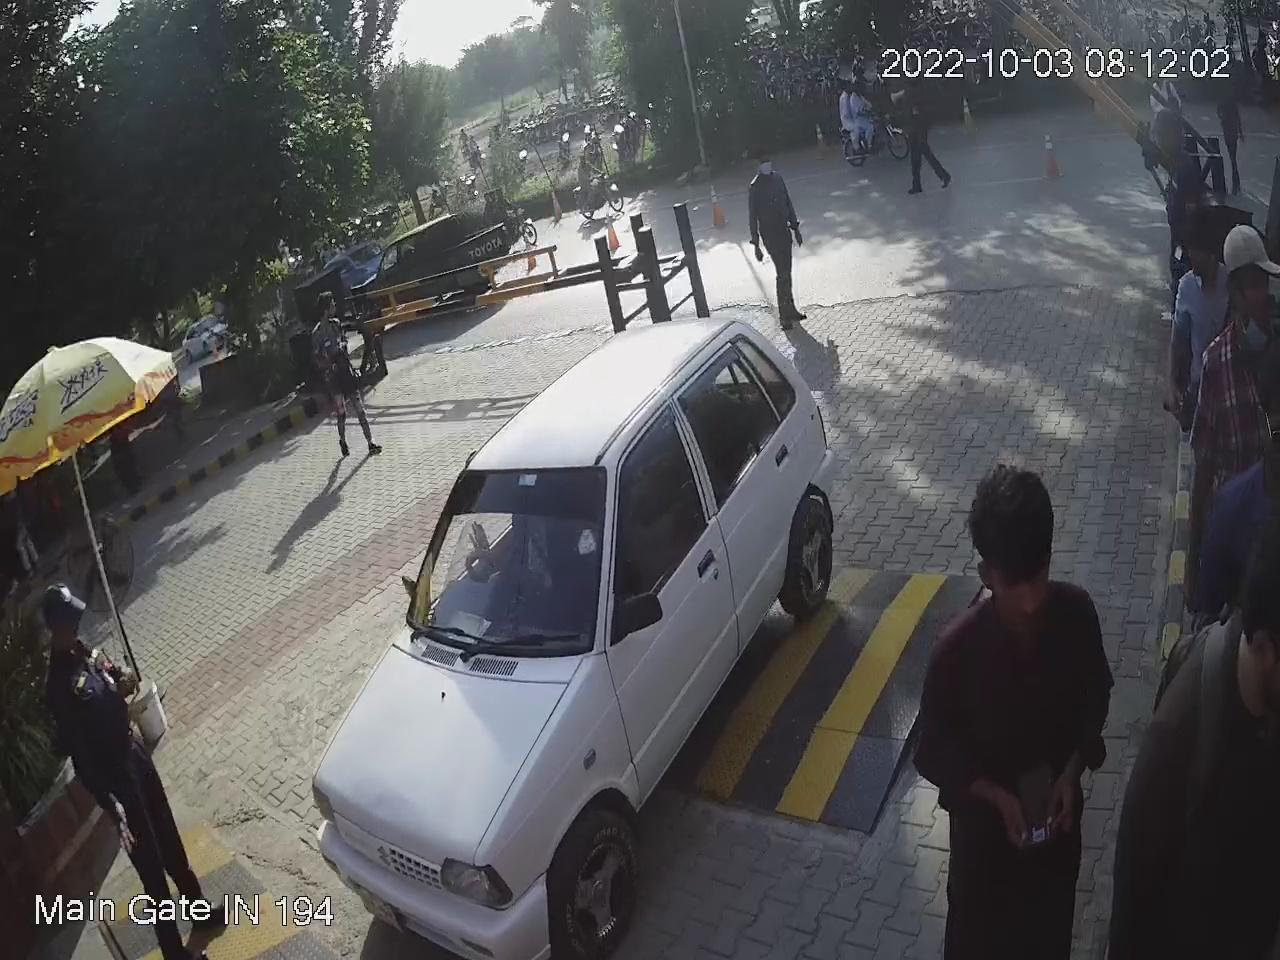windshield: (403, 458, 609, 668)
